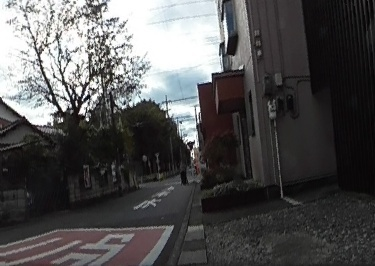person: (176, 160, 187, 184)
